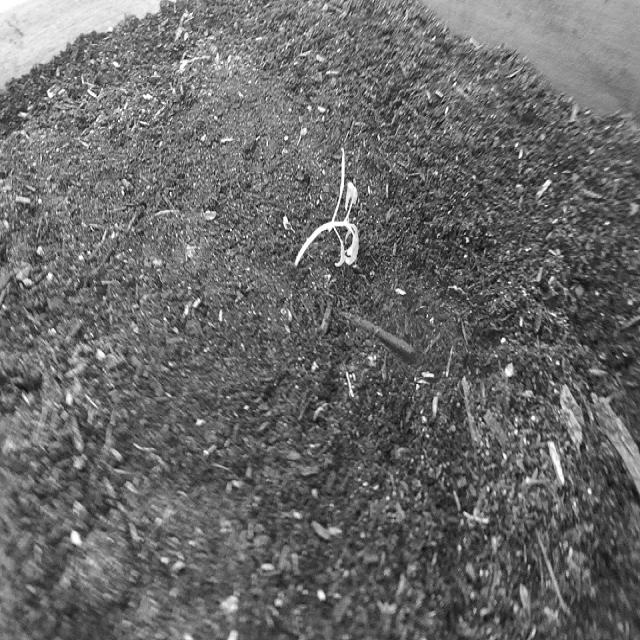Healthy: (292, 141, 366, 277)
